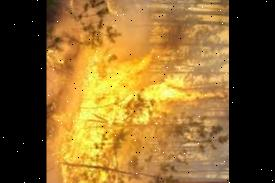fire: (56, 50, 220, 183)
